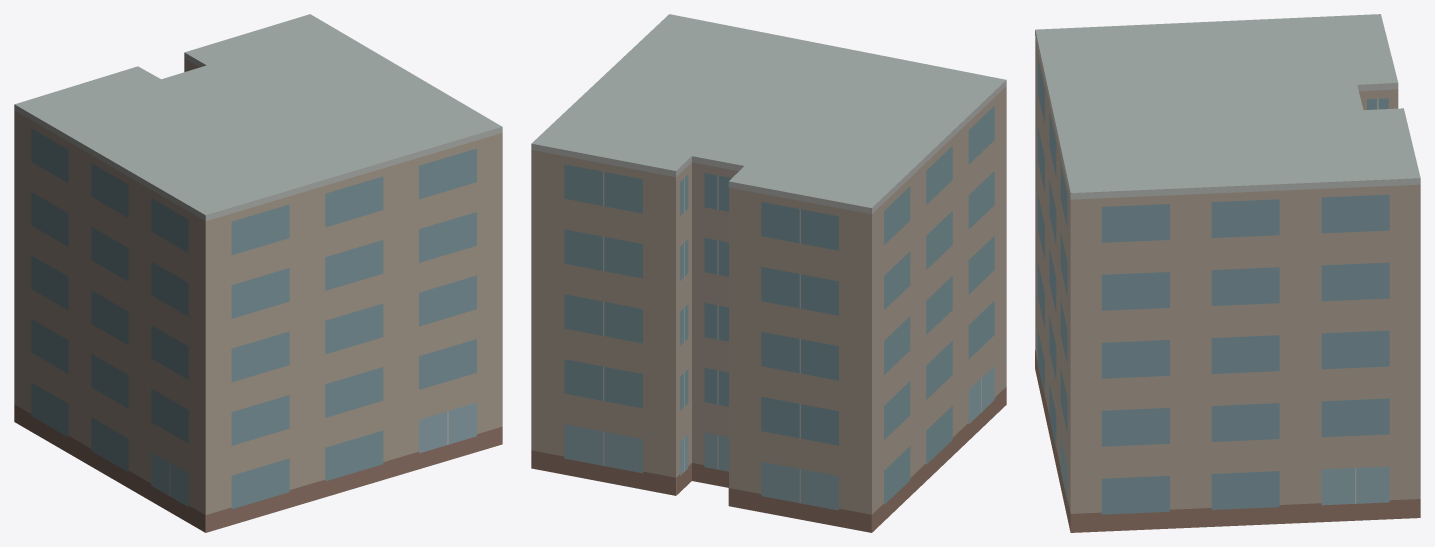
File: survey-upis-32664198.glb
3 renders of one model, left to right at view 1: azimuth 30°, elevation 25°; view 2: azimuth 150°, elevation 25°; view 3: azimuth 270°, elevation 25°, orthographic. The views are drawn at different scales.
Parts seen in each view (by area): view 1: survey-upis-32664198.tmp; view 2: survey-upis-32664198.tmp; view 3: survey-upis-32664198.tmp.
Boxes of the visible parts, x1,y1,x2,y2 form: survey-upis-32664198.tmp: [14, 14, 502, 532]; survey-upis-32664198.tmp: [531, 14, 1006, 532]; survey-upis-32664198.tmp: [1035, 14, 1420, 532].
Size of the model in its own units: 14.48 by 12.8 by 13.17.
